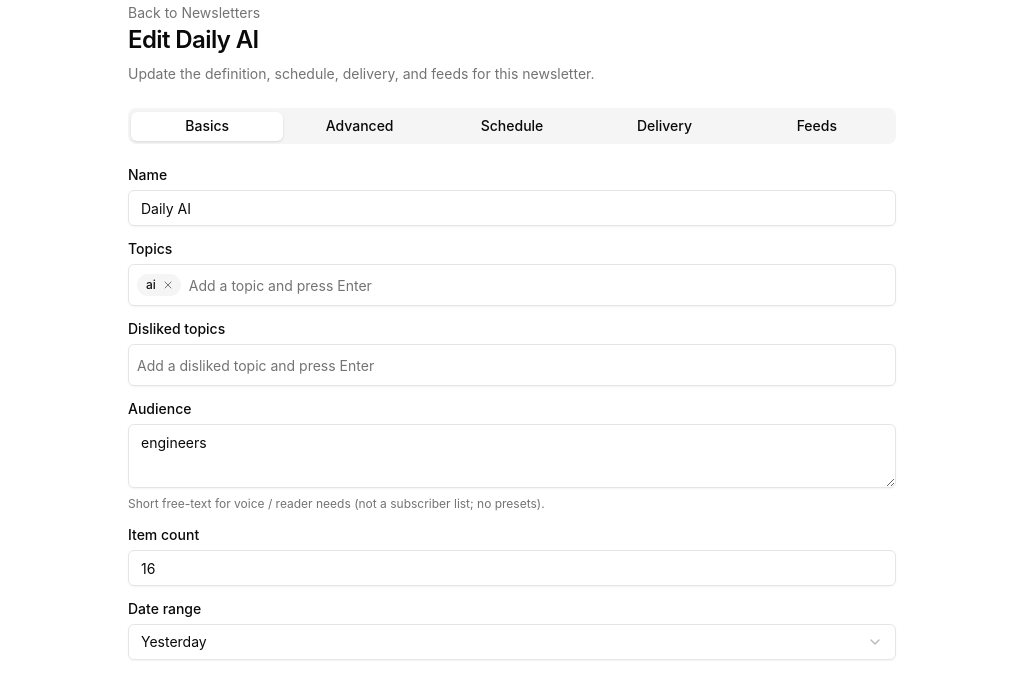
Test: NewsletterEditForm — Drafter prompt › shows drafter placeholder badges including {audience}
This screenshot has width=1024, height=675.
Click the tab "Advanced" at (360, 126), box [283,112,436,140]
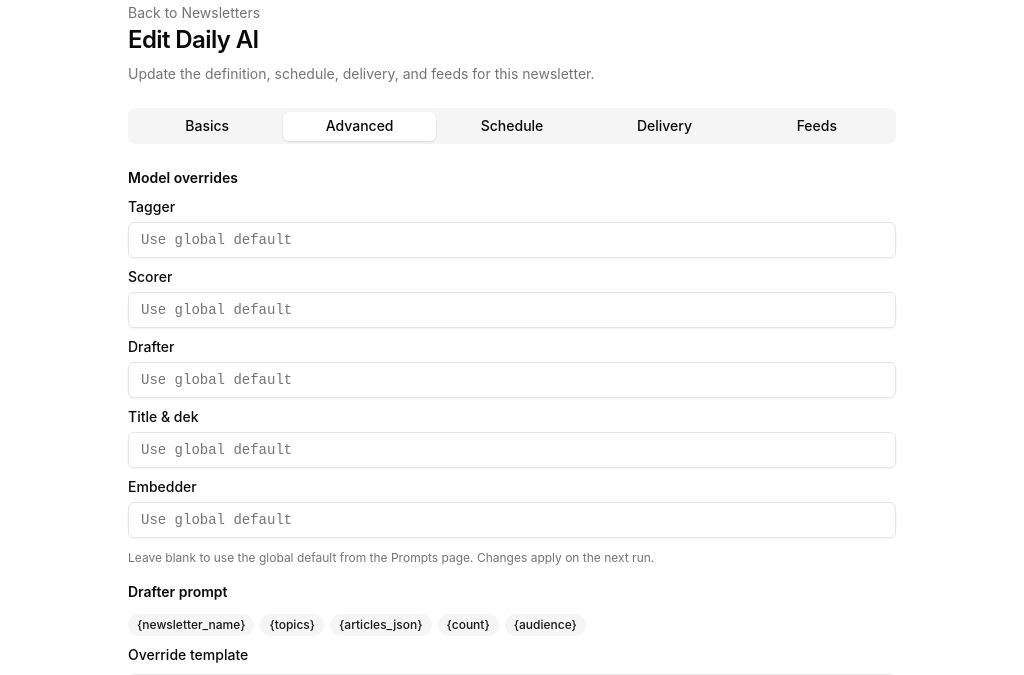
Check: the text "{newsletter_name}" is shown, box [128,614,254,636]
Check: the text "{topics}" is shown, box [260,614,324,636]
Check: the text "{articles_json}" is shown, box [330,614,432,636]
